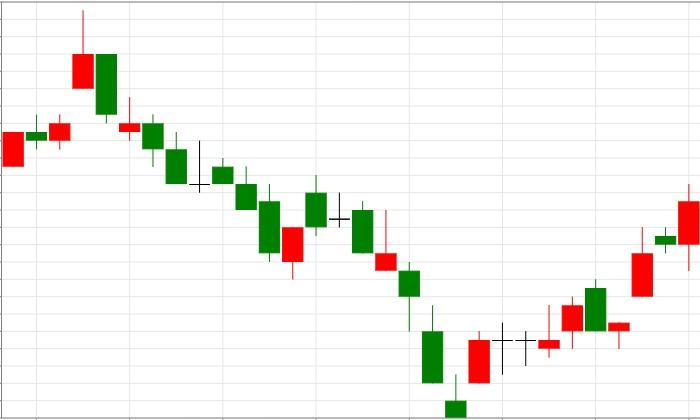morning_star_rise: (329, 192, 490, 418)
